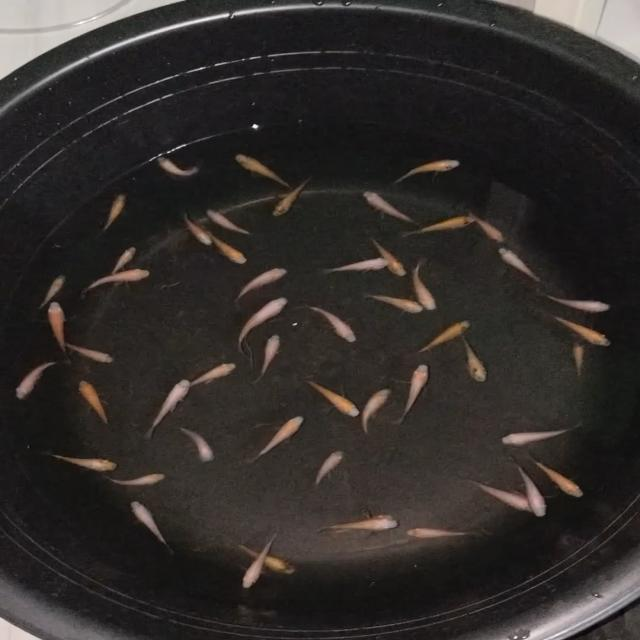nila: (541, 305, 615, 350), (246, 412, 307, 466), (142, 378, 193, 440), (232, 296, 288, 352), (129, 498, 182, 557), (528, 452, 590, 502), (296, 300, 358, 346), (462, 476, 537, 514), (223, 266, 290, 306), (240, 528, 282, 591), (300, 376, 362, 418), (496, 244, 554, 287), (236, 538, 305, 574), (511, 454, 548, 519), (409, 320, 472, 358), (74, 268, 152, 298), (234, 150, 294, 188), (77, 376, 118, 428), (13, 357, 58, 404), (396, 362, 430, 424), (498, 422, 582, 447), (538, 288, 616, 314), (174, 422, 220, 466), (394, 155, 464, 183), (362, 189, 416, 225), (400, 214, 480, 238), (184, 359, 242, 392), (364, 287, 426, 317), (272, 172, 312, 218), (359, 384, 394, 436), (48, 298, 74, 366), (461, 334, 494, 387), (368, 232, 406, 276), (44, 451, 118, 473), (411, 254, 438, 313), (311, 448, 347, 492), (205, 206, 258, 235), (255, 330, 284, 382), (34, 270, 69, 313), (332, 512, 394, 536), (464, 208, 507, 242), (318, 256, 390, 276), (103, 468, 167, 490), (98, 189, 126, 239), (562, 330, 589, 380), (207, 232, 249, 264), (176, 210, 213, 246), (64, 340, 114, 365), (312, 520, 400, 534), (408, 527, 482, 542), (156, 155, 204, 178), (108, 244, 140, 276)
